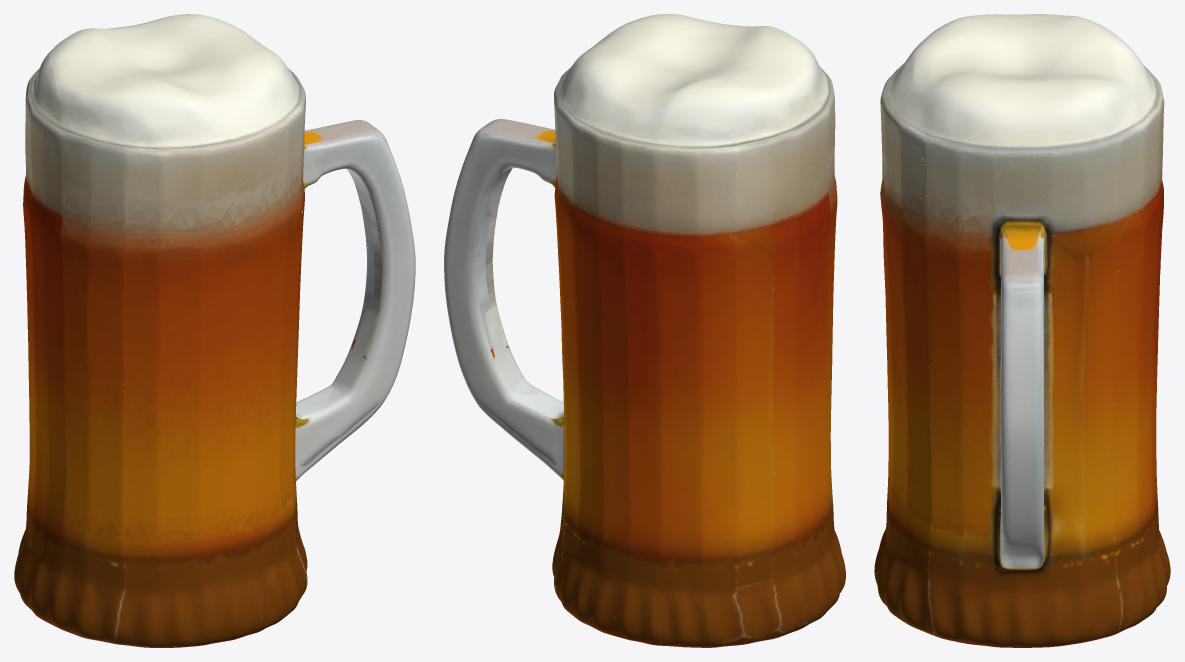
Rendered from mug.glb.
3 views of the same model, side by side, from view 1: azimuth 30°, elevation 25°; view 2: azimuth 150°, elevation 25°; view 3: azimuth 270°, elevation 25° (orthographic).
Parts seen in each view (by area): view 1: mug_body, mug_foam; view 2: mug_body, mug_foam; view 3: mug_body, mug_foam.
Boxes of the visible parts, box(x1,y1,x2,y2) form: mug_body: box(14, 115, 415, 647); mug_foam: box(25, 14, 305, 181); mug_body: box(444, 114, 845, 647); mug_foam: box(554, 14, 835, 179); mug_body: box(874, 118, 1170, 647); mug_foam: box(880, 14, 1164, 179).
Size of the model in its own units: 0.7177 by 0.9893 by 0.4896.
1 material, 1 textured.
